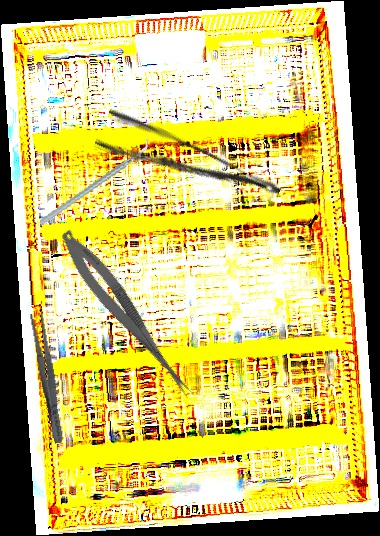Chopper: (27, 138, 163, 226)
Dressing Forceps: (93, 105, 283, 226), (27, 311, 68, 445)
Micro Scissor: (51, 224, 205, 405)
